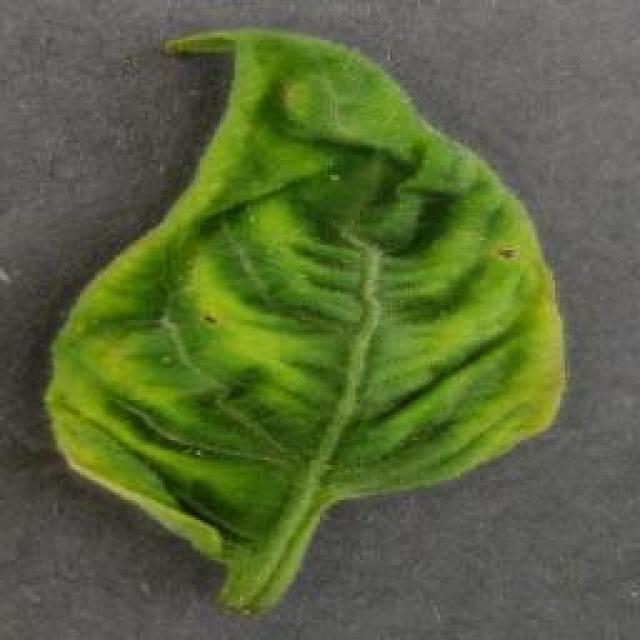Tomato yellow virus leaf: (46, 29, 566, 568)
